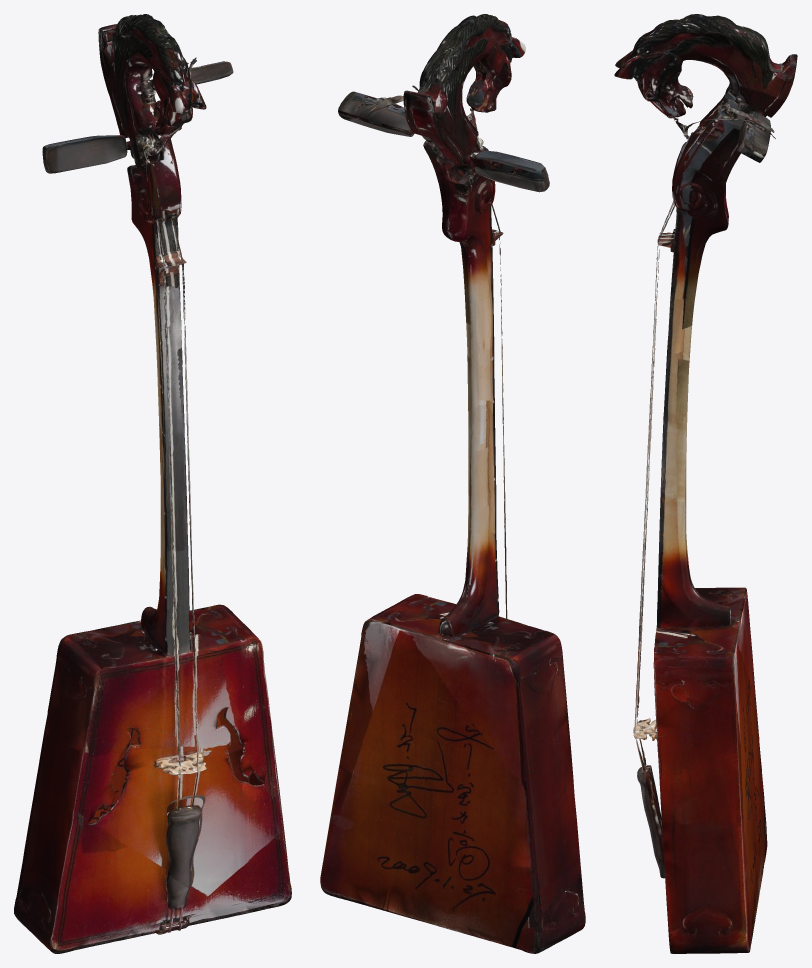
The model's file is morin-mobile.glb.
The picture shows the model from 3 angles, left to right: view 1: azimuth 30°, elevation 25°; view 2: azimuth 150°, elevation 25°; view 3: azimuth 270°, elevation 25°; orthographic projection. The views are drawn at different scales.
Parts seen in each view (by area): view 1: geometry_0; view 2: geometry_0; view 3: geometry_0.
Part boxes in pixels (x1,y1,x2,y2): geometry_0: [14, 14, 291, 953]; geometry_0: [320, 14, 585, 953]; geometry_0: [614, 14, 797, 953].
Bounding box in the file's own units: 8.27 × 30.36 × 5.62.
Materials: 1 (1 with a texture image).
